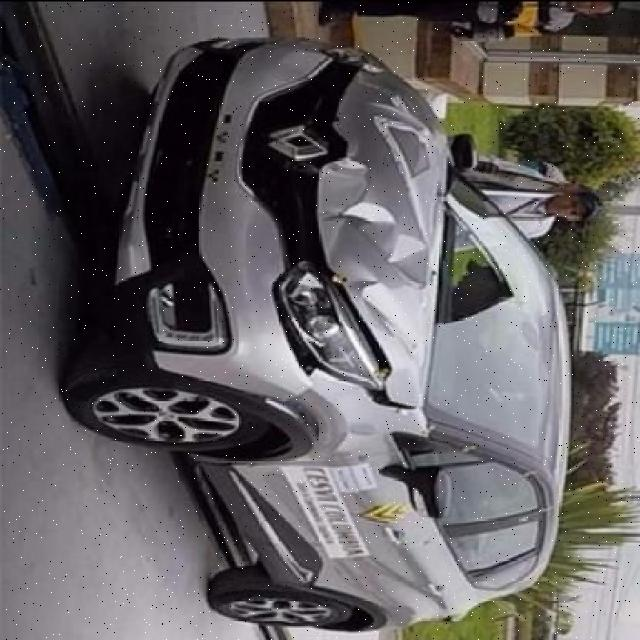damage: (321, 68, 447, 406)
